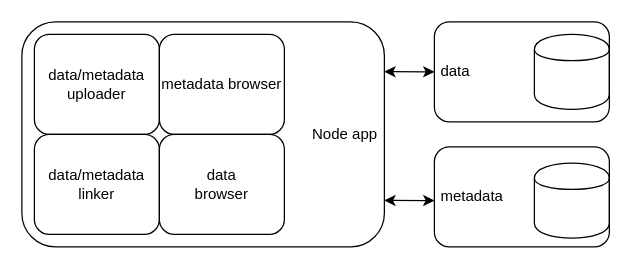
Some shapes in this 631 by 269 pixel diagram are drawn without their labels. The shapes that lost their labels are listed below. From the top down, each one's centre as x and y in pixels, then its label:
At point (571, 71): "MinIO".
At point (571, 200): "MongoDB".
